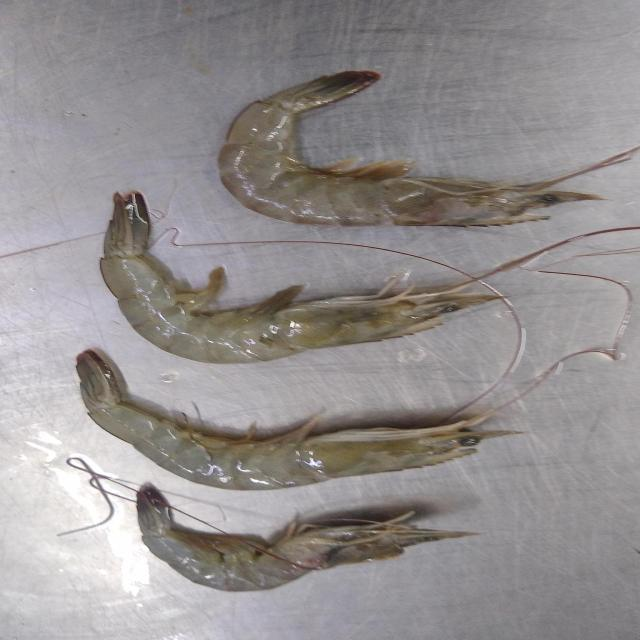shrimp: (100, 192, 500, 364), (218, 71, 636, 226), (76, 351, 518, 490), (136, 486, 476, 591)
